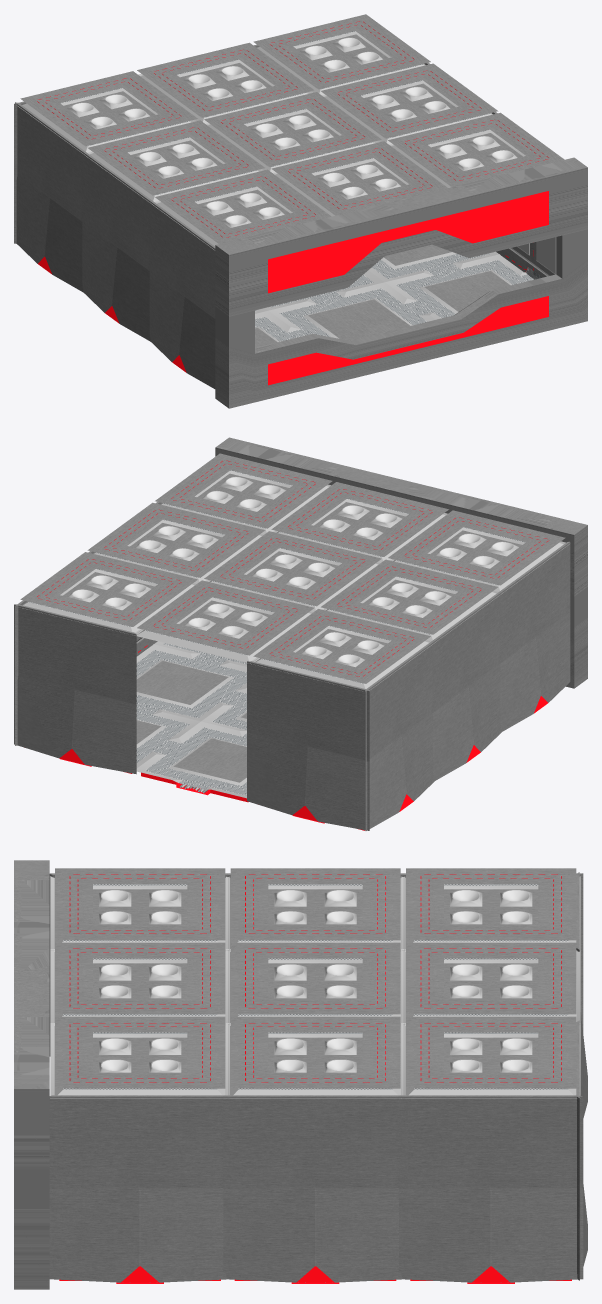
File: GunRoom.fbx
3 views of the same model, one above another, from view 1: azimuth 30°, elevation 25°; view 2: azimuth 150°, elevation 25°; view 3: azimuth 270°, elevation 25° (orthographic). The views are drawn at different scales.
Parts seen in each view (by area): view 1: GunRoom; view 2: GunRoom; view 3: GunRoom.
Boxes of the visible parts, bbox=[...] form: GunRoom: bbox=[14, 14, 587, 408]; GunRoom: bbox=[14, 437, 587, 830]; GunRoom: bbox=[14, 860, 587, 1289].
Bounding box in the file's own units: 1242 × 504 × 1308.
